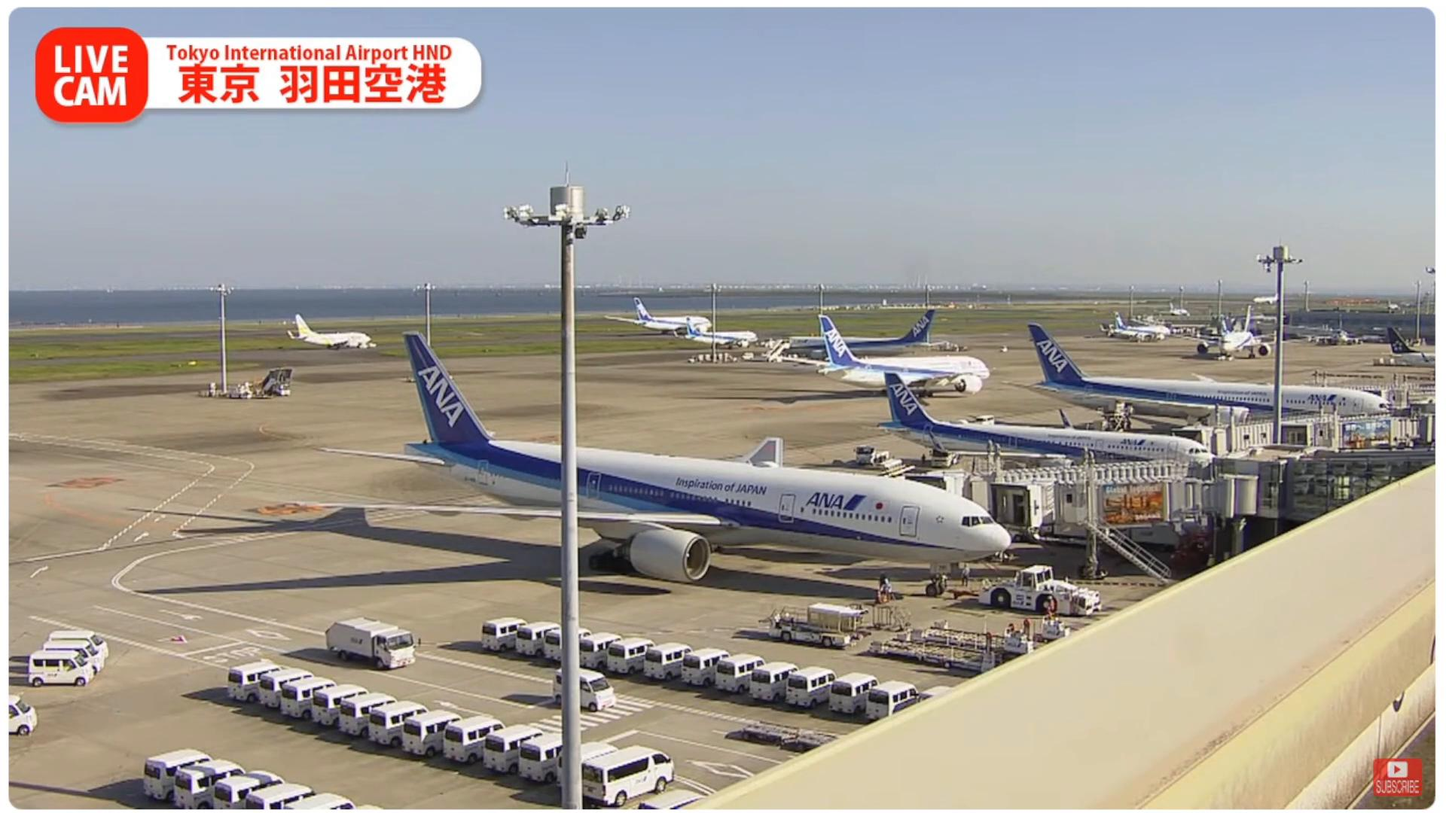APS: (971, 565, 1107, 618)
Aerobridge: (880, 463, 1198, 520), (990, 479, 1258, 539)
Airplane: (308, 328, 1018, 599)
Baggage truck: (325, 612, 423, 676)
JCPL: (904, 613, 1077, 658), (867, 634, 1012, 675)
Skyloader: (761, 600, 870, 651)
Window: (1281, 462, 1437, 524)
